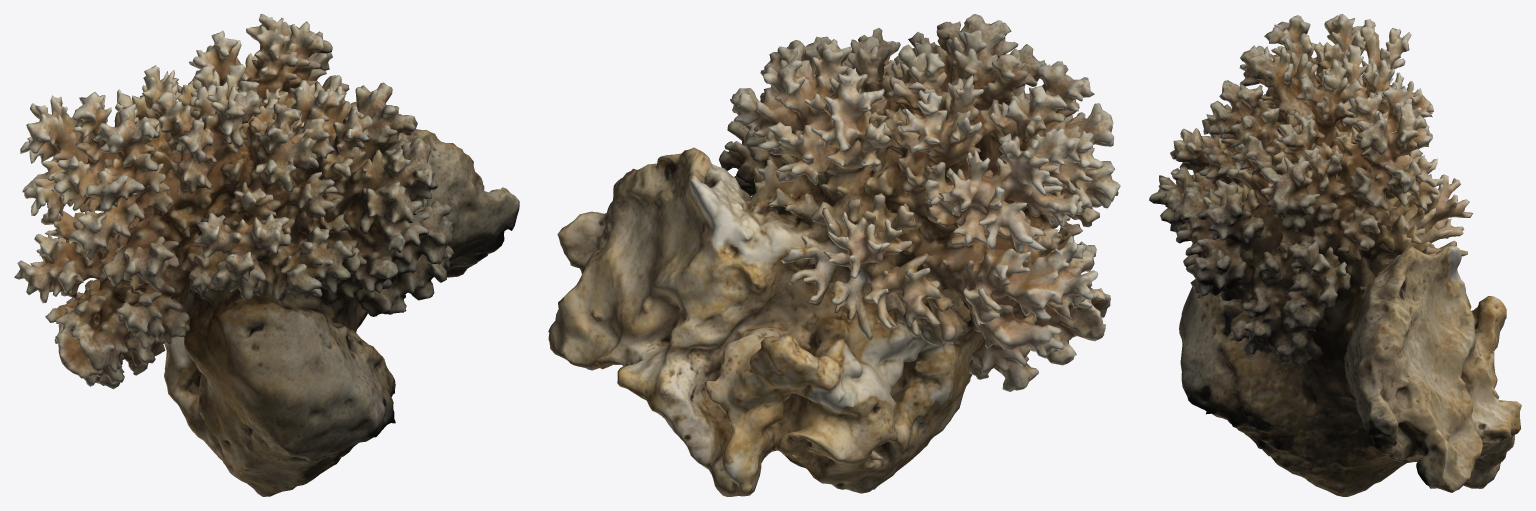
File: usnm_1128565-100k-2048.gltf
3 views of the same model, side by side, from view 1: azimuth 30°, elevation 25°; view 2: azimuth 150°, elevation 25°; view 3: azimuth 270°, elevation 25° (orthographic). The views are drawn at different scales.
Size of the model in its own units: 0.1621 by 0.1365 by 0.1124.
Materials: 1 (1 with a texture image).
